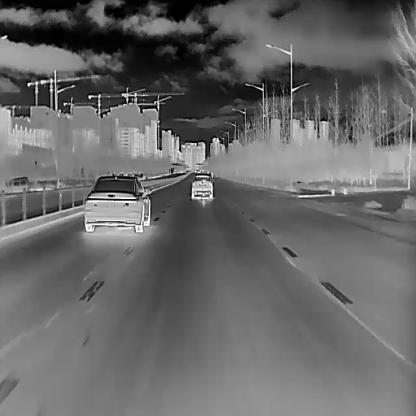car: (84, 173, 151, 232), (190, 172, 213, 198), (4, 175, 28, 193)
